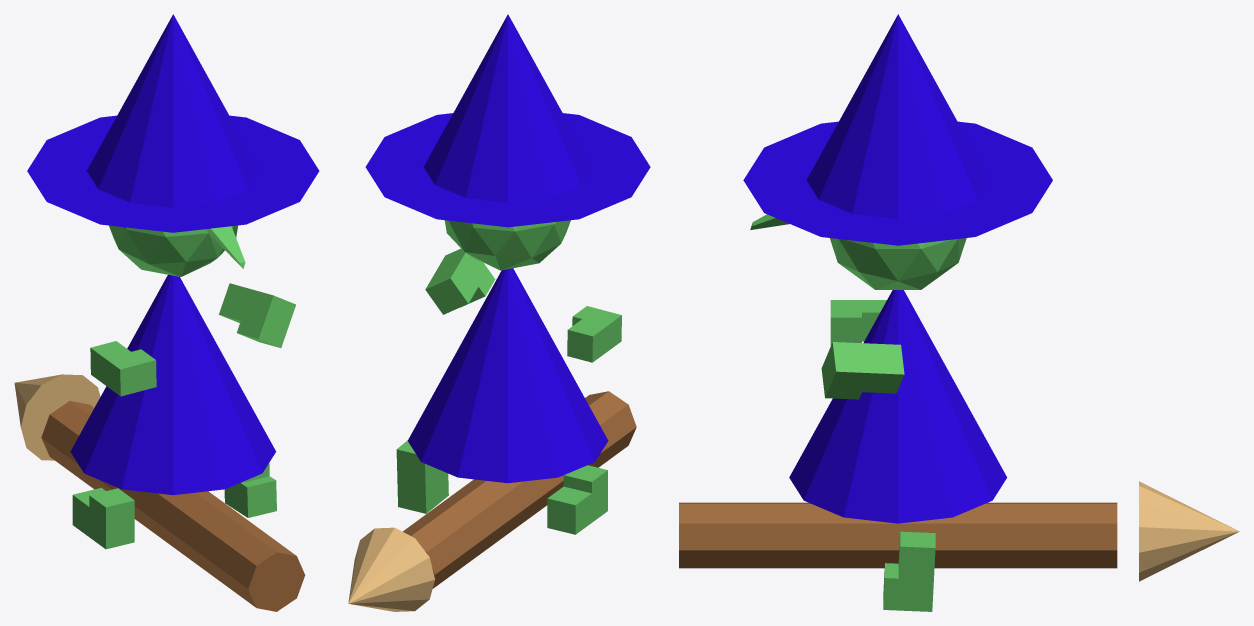
Rendered from Witch.fbx.
3 renders of one model, left to right at view 1: azimuth 30°, elevation 25°; view 2: azimuth 150°, elevation 25°; view 3: azimuth 270°, elevation 25°, orthographic. The views are drawn at different scales.
Visible parts, largest first — view 1: Cone.002; view 2: Cone.002; view 3: Cone.002.
Part boxes in pixels (box(x1,y1,x2,y2)): Cone.002: box(14, 14, 319, 611); Cone.002: box(348, 14, 650, 611); Cone.002: box(679, 14, 1239, 611).
Bounding box in the file's own units: 2.84 × 5.69 × 5.14.
